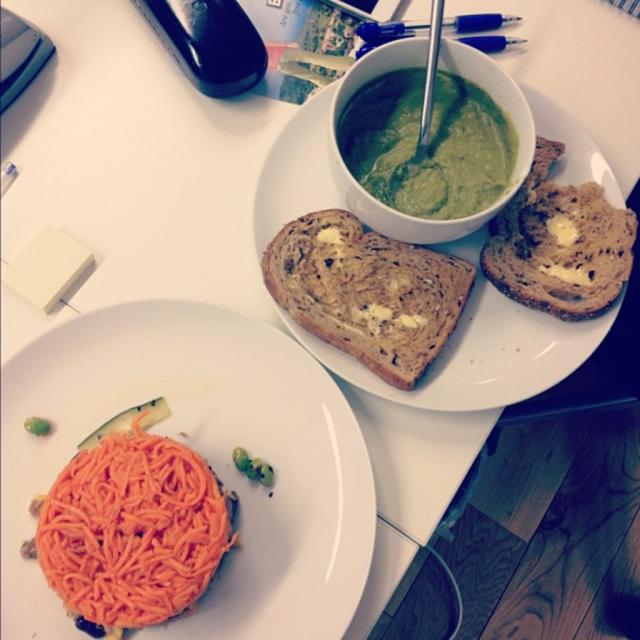non-organic waste: (244, 73, 634, 420), (0, 284, 379, 640)
